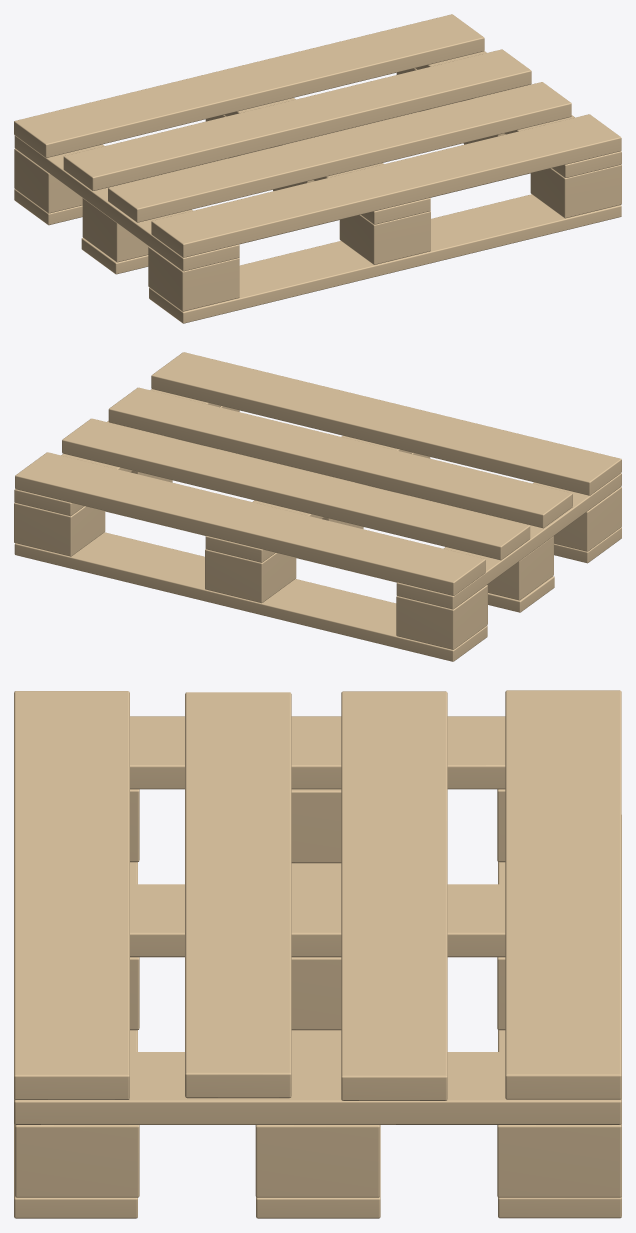
File: pallet_a01.glb
The picture shows the model from 3 angles, top to bottom: view 1: azimuth 30°, elevation 25°; view 2: azimuth 150°, elevation 25°; view 3: azimuth 270°, elevation 25°; orthographic projection. The views are drawn at different scales.
Parts seen in each view (by area): view 1: sm_pallet_a01_mesh_00.001; view 2: sm_pallet_a01_mesh_00.001; view 3: sm_pallet_a01_mesh_00.001.
Boxes of the visible parts, x1,y1,x2,y2 form: sm_pallet_a01_mesh_00.001: (14,14,621,323); sm_pallet_a01_mesh_00.001: (14,352,621,661); sm_pallet_a01_mesh_00.001: (14,690,621,1218).
Bounding box in the file's own units: 1.2 × 0.2086 × 0.8004.
